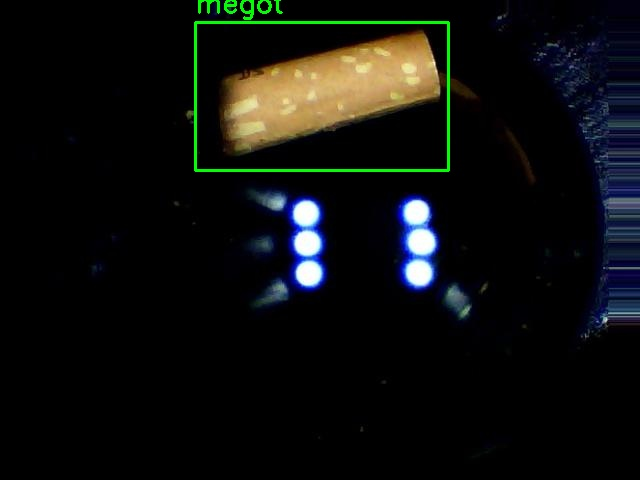megot: (195, 22, 448, 170)
